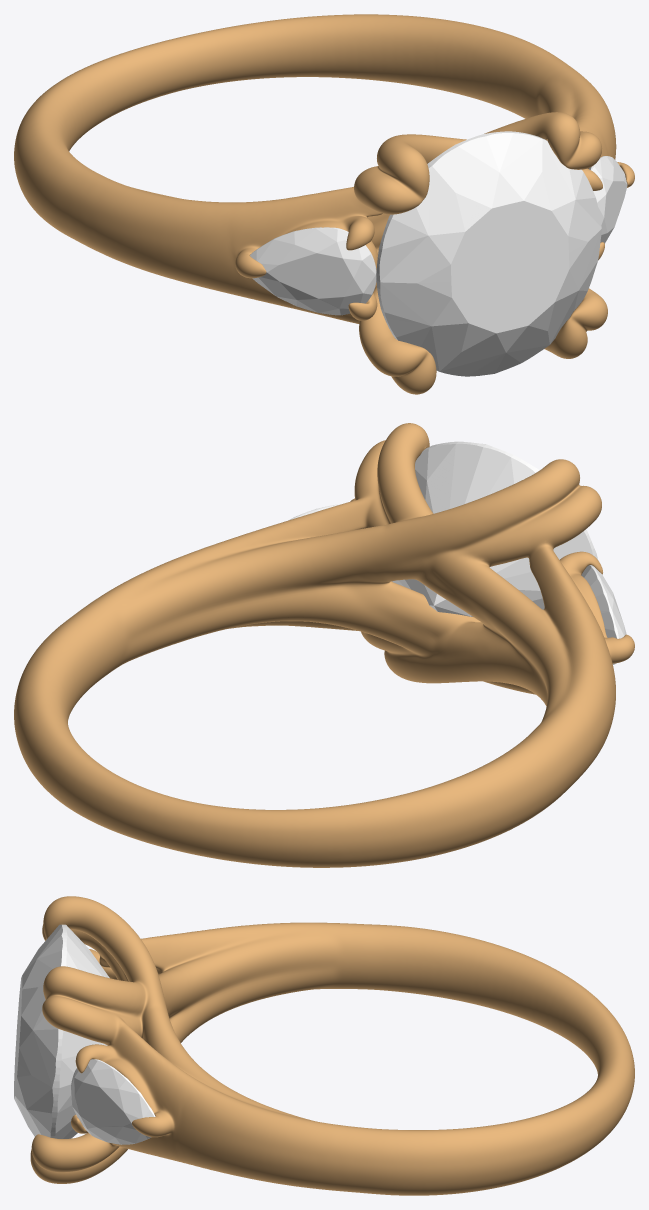
Rendered from myfav.glb.
3 views of the same model, one above another, from view 1: azimuth 30°, elevation 25°; view 2: azimuth 150°, elevation 25°; view 3: azimuth 270°, elevation 25° (orthographic). The views are drawn at different scales.
Parts seen in each view (by area): view 1: ring, diamond_main, diamond_left, diamond_right; view 2: ring, diamond_main, diamond_left; view 3: ring, diamond_main, diamond_right.
Part boxes in pixels (x1,y1,x2,y2): ring: [14, 14, 634, 394]; diamond_main: [376, 131, 601, 376]; diamond_left: [250, 227, 376, 315]; diamond_right: [589, 156, 627, 243]; ring: [14, 423, 634, 867]; diamond_main: [392, 441, 597, 616]; diamond_left: [581, 565, 626, 664]; ring: [30, 896, 634, 1195]; diamond_main: [14, 924, 109, 1138]; diamond_right: [71, 1059, 155, 1144].
Bounding box in the file's own units: 2.5 × 1.12 × 2.91.
